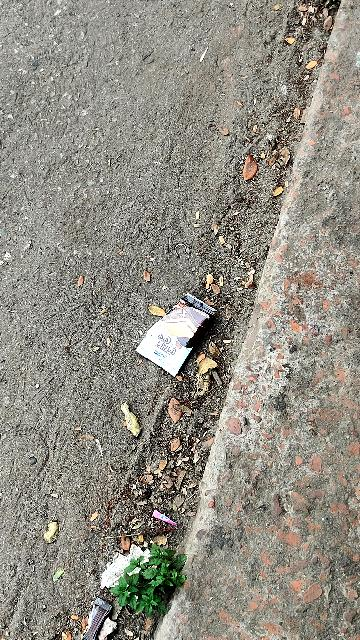packet: (150, 296, 221, 373)
